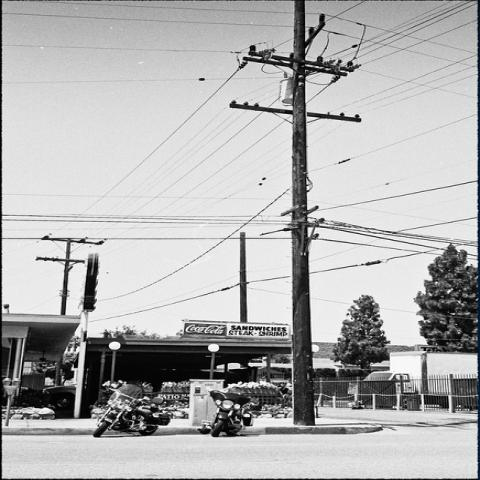motorcycle: (93, 385, 171, 437), (200, 390, 254, 437)
truck: (364, 351, 480, 380)
